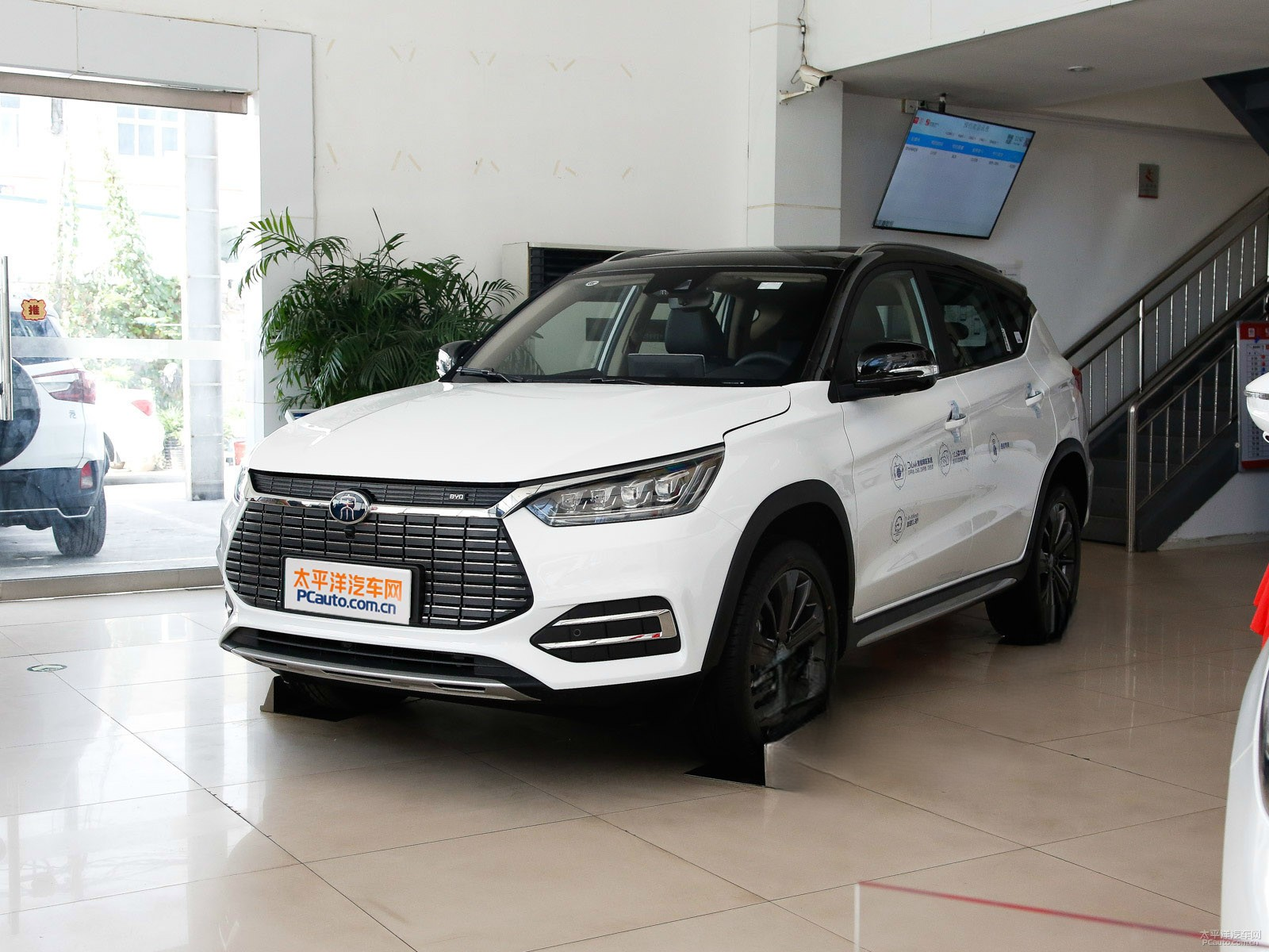BYD Song: (330, 491, 366, 524)
